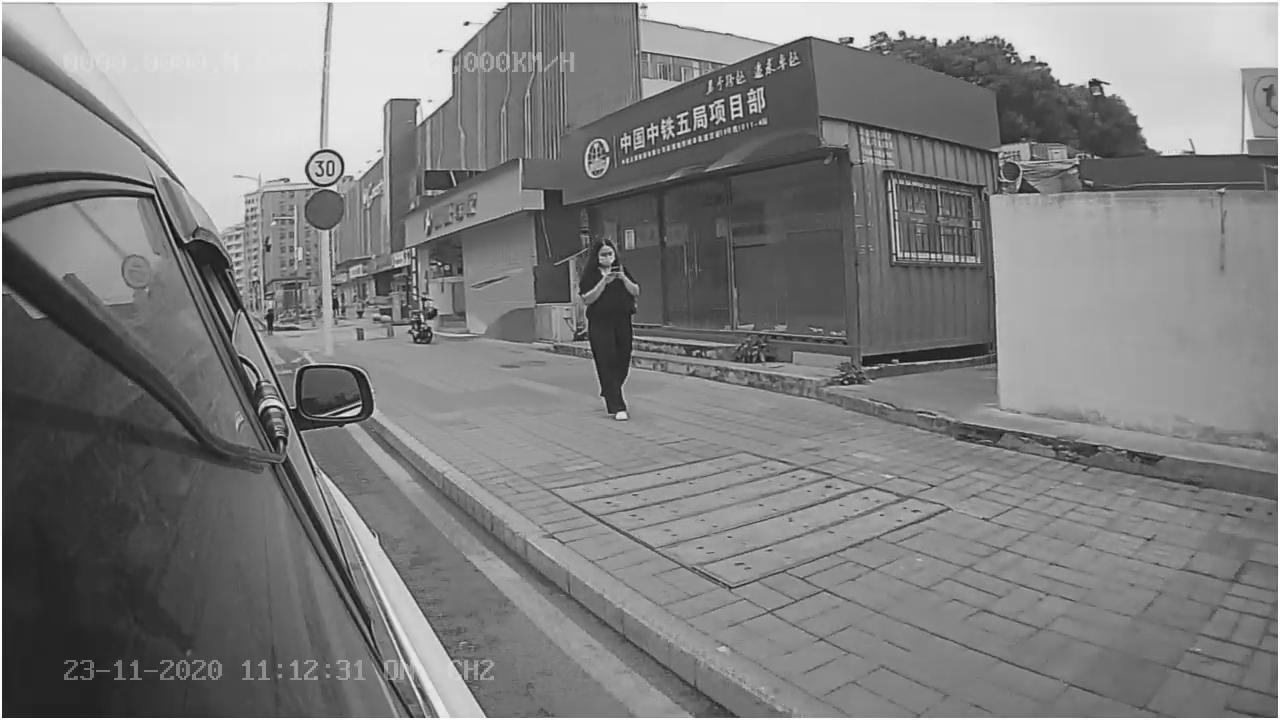person: (568, 226, 654, 428)
